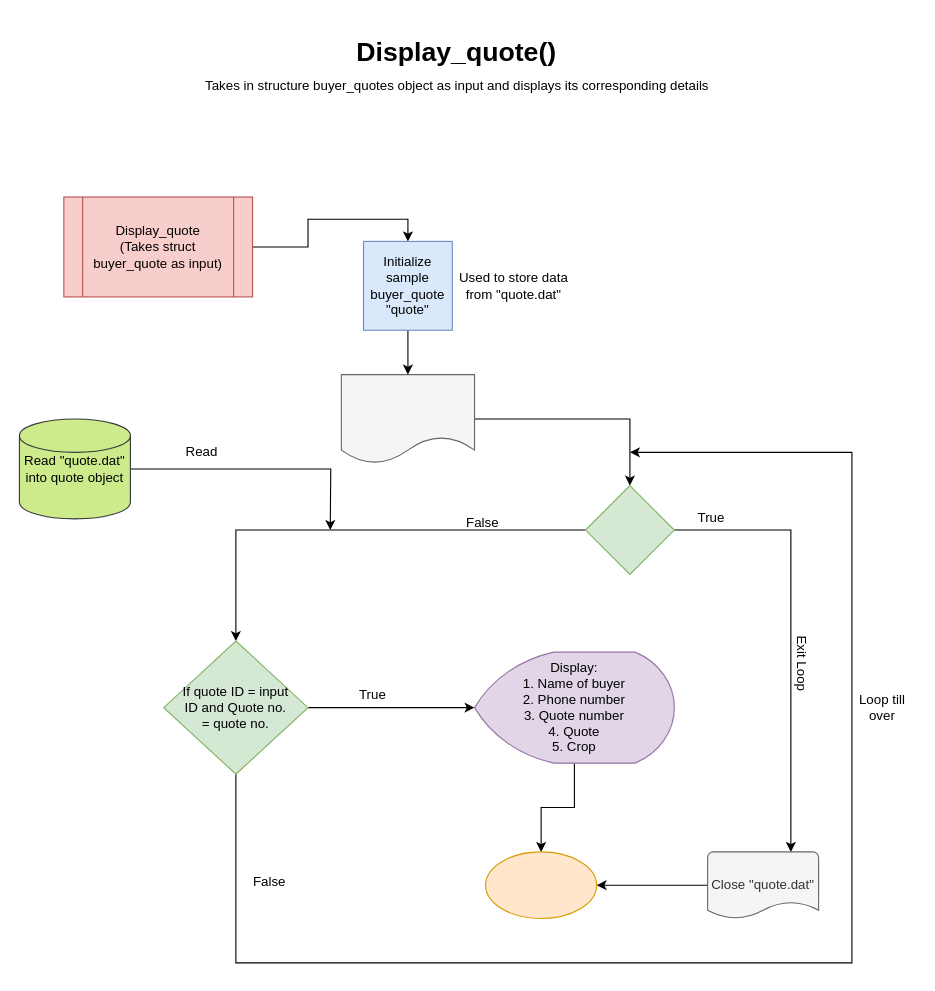
Some shapes in this 935 by 991 pixel diagram are drawn without their labels. Each missing label, with the centre of its shape:
if End of file: pixel 629 529
Open "quote.dat": pixel 407 418
Terminate Process: pixel 541 885
